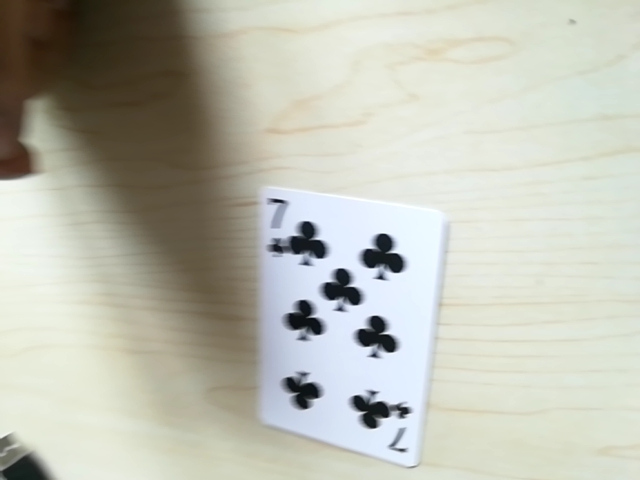mh 7: (252, 193, 300, 254), (367, 403, 415, 459)
